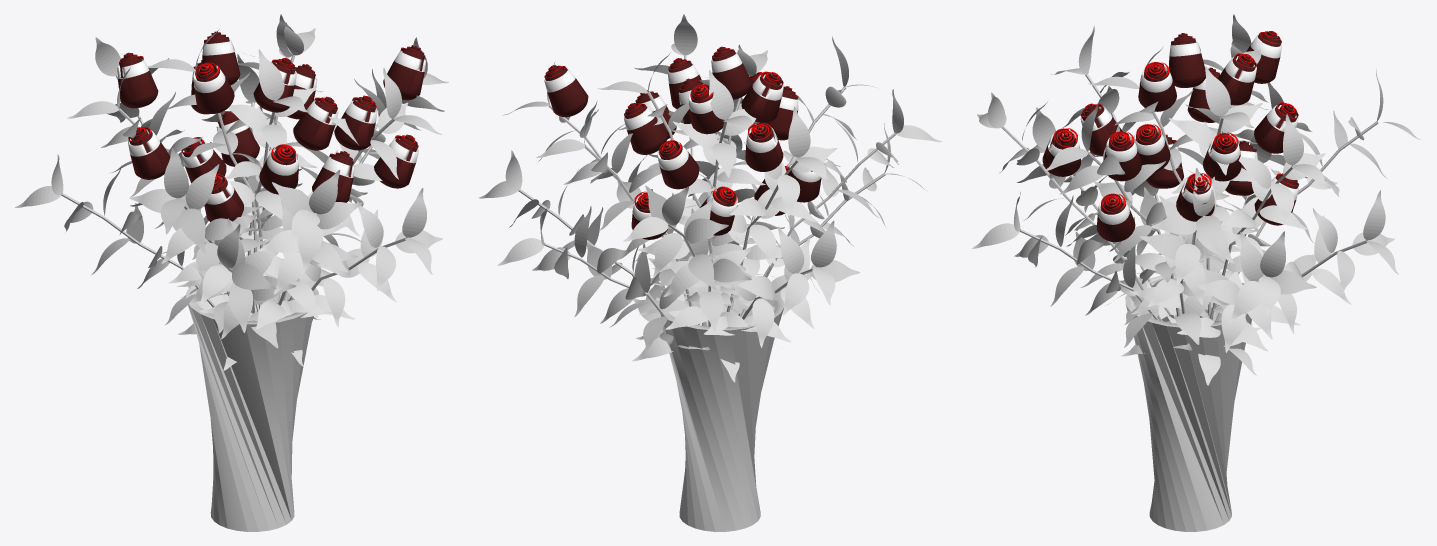
3 views of the same model, side by side, from view 1: azimuth 30°, elevation 25°; view 2: azimuth 150°, elevation 25°; view 3: azimuth 270°, elevation 25° (orthographic). The views are drawn at different scales.
Visible parts, largest first — view 1: Glass Twisted Vase_001, Group_031, Group_003, Group_022, Group_035, Group_047, Group_020, Group_043, Group_033, Group_016, Group_012, Group_051 (+35 smaller); view 2: Glass Twisted Vase_001, Group_020, Group_026, Group_022, Group_010, Group_031, Group_007, Group_012, Group_039, Group_033, Group_047, Group_286 (+21 smaller); view 3: Glass Twisted Vase_001, Group_022, Group_043, Group_007, Group_026, Group_012, Group_010, Group_047, Group_031, Group_003, Group_020, Group_051 (+29 smaller).
Boxes of the visible parts, <box> form: Glass Twisted Vase_001: <box>186,281,318,531</box>; Group_031: <box>117,52,158,108</box>; Group_003: <box>293,96,338,150</box>; Group_022: <box>193,62,234,113</box>; Group_035: <box>128,127,170,179</box>; Group_047: <box>334,95,377,150</box>; Group_020: <box>383,45,426,100</box>; Group_043: <box>374,134,418,188</box>; Group_033: <box>259,144,298,194</box>; Group_016: <box>204,174,243,221</box>; Group_012: <box>202,31,240,85</box>; Group_051: <box>312,151,354,202</box>; Glass Twisted Vase_001: <box>656,291,784,531</box>; Group_020: <box>544,65,588,117</box>; Group_026: <box>624,103,667,154</box>; Group_022: <box>741,71,783,122</box>; Group_010: <box>657,140,699,189</box>; Group_031: <box>745,122,783,171</box>; Group_007: <box>711,46,751,99</box>; Group_012: <box>688,84,727,134</box>; Group_039: <box>700,186,737,235</box>; Group_033: <box>765,86,798,140</box>; Group_047: <box>667,58,703,109</box>; Group_286: <box>709,70,733,119</box>; Glass Twisted Vase_001: <box>1125,273,1251,531</box>; Group_022: <box>1169,33,1205,87</box>; Group_043: <box>1096,193,1135,242</box>; Group_007: <box>1138,62,1176,111</box>; Group_026: <box>1203,132,1241,181</box>; Group_012: <box>1217,53,1256,105</box>; Group_010: <box>1254,102,1298,153</box>; Group_047: <box>1104,131,1141,181</box>; Group_031: <box>1246,31,1281,83</box>; Group_003: <box>1133,124,1170,172</box>; Group_020: <box>1176,172,1214,221</box>; Group_051: <box>1042,128,1080,176</box>.
Size of the model in its own units: 16.06 by 18.91 by 16.5.
